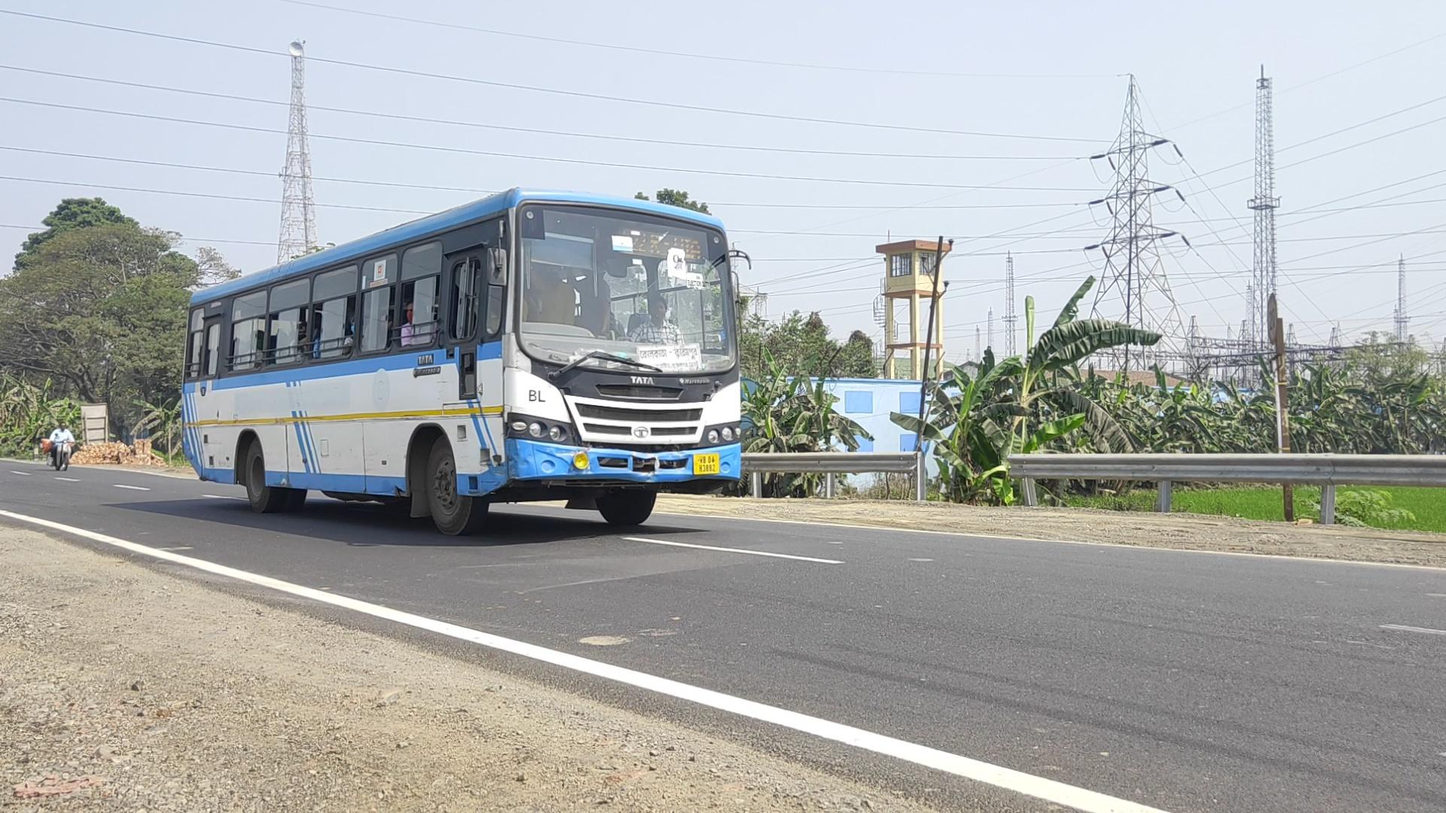Bus: (182, 187, 740, 537)
bike: (42, 422, 75, 470)
